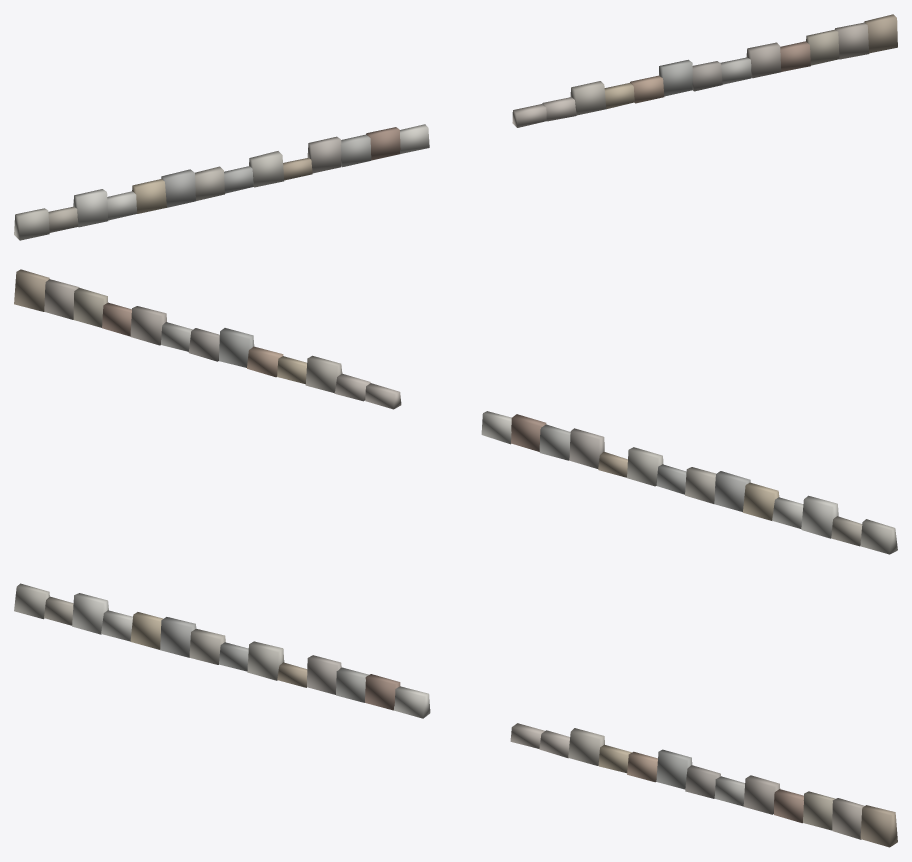
The model's file is farm_15_14_far.glb.
3 renders of one model, top to bottom at view 1: azimuth 30°, elevation 25°; view 2: azimuth 150°, elevation 25°; view 3: azimuth 330°, elevation 25°, orthographic. The views are drawn at different scales.
Parts seen in each view (by area): view 1: geometry_0; view 2: geometry_0; view 3: geometry_0.
Boxes of the visible parts, left/top/right/bottom form: geometry_0: left=14, top=14, right=897, bottom=240; geometry_0: left=14, top=269, right=897, bottom=554; geometry_0: left=14, top=583, right=897, bottom=847.
Size of the model in its own units: 46.51 by 1.9 by 3.35.
